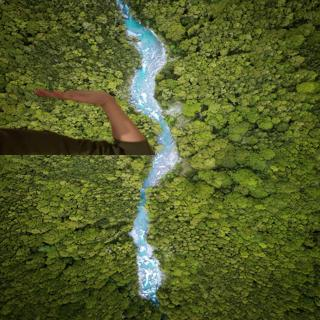WAIT: (30, 80, 113, 108)
